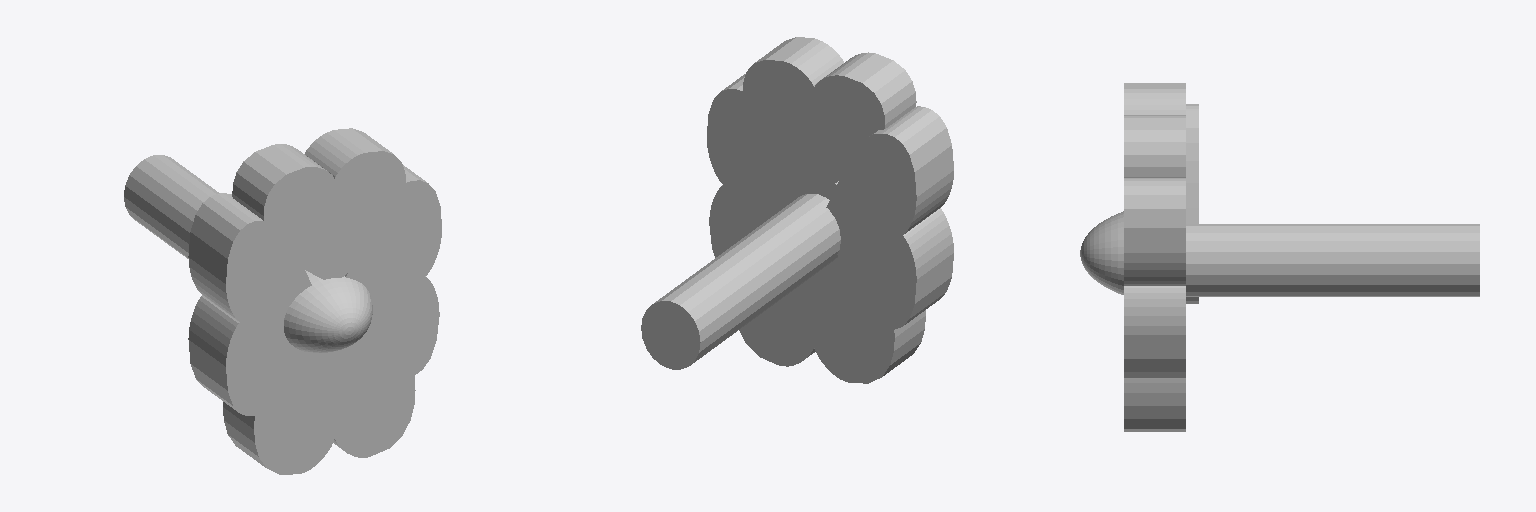
File: tinker.obj
3 renders of one model, left to right at view 1: azimuth 30°, elevation 25°; view 2: azimuth 150°, elevation 25°; view 3: azimuth 270°, elevation 25°, orthographic.
Parts seen in each view (by area): view 1: obj_0; view 2: obj_0; view 3: obj_0.
Boxes of the visible parts, <box> form: obj_0: <box>124,128,441,474</box>; obj_0: <box>641,37,953,383</box>; obj_0: <box>1080,83,1479,431</box>.
Size of the model in its own units: 40 by 54 by 64.